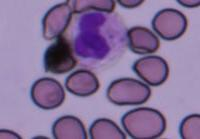N: (69, 9, 128, 70)
